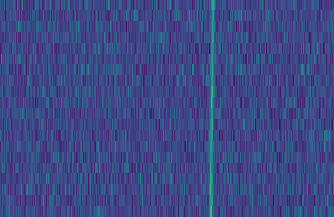signal: (206, 0, 218, 217)
